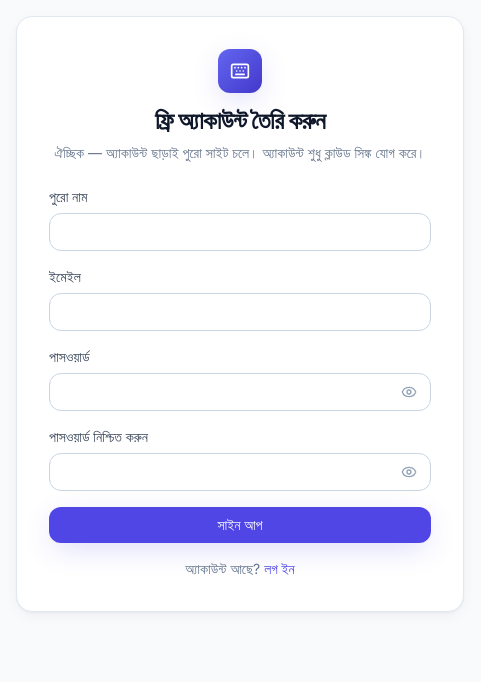
RegisterPage validation › rejects an invalid email and a short password
Step 1. Type "Maruf" into the field labelled "পুরো নাম" → (240, 232), box 49,213 -> 431,251
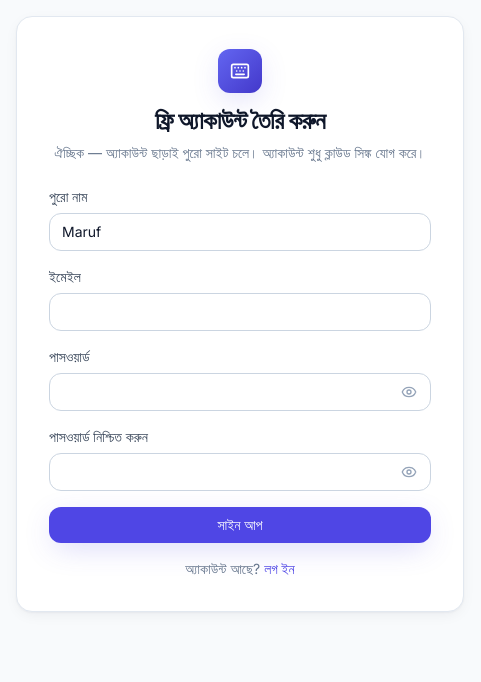
Step 2. Type "not-an-email" into the field labelled "ইমেইল" → (240, 312), box 49,293 -> 431,331
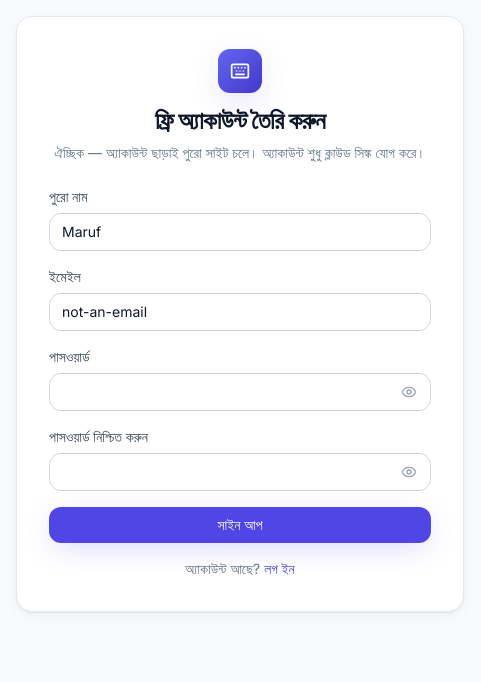
Step 3. Type "abc" into the password field labelled "পাসওয়ার্ড" → (240, 392), box 49,373 -> 431,411
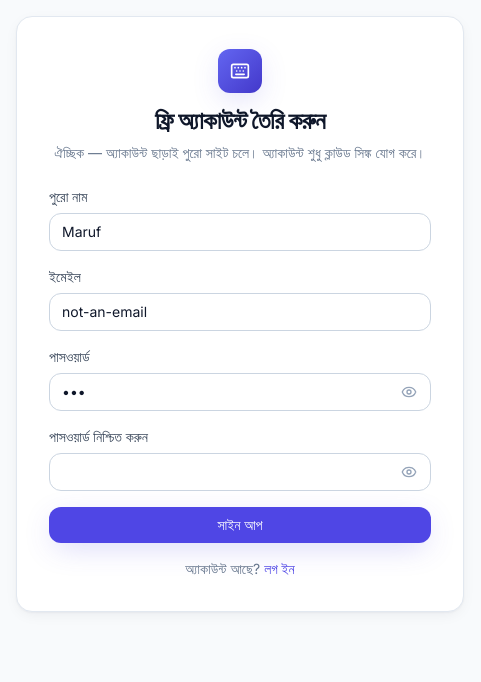
Step 4. Type "abc" into the password field labelled "পাসওয়ার্ড নিশ্চিত করুন" → (240, 472), box 49,453 -> 431,491
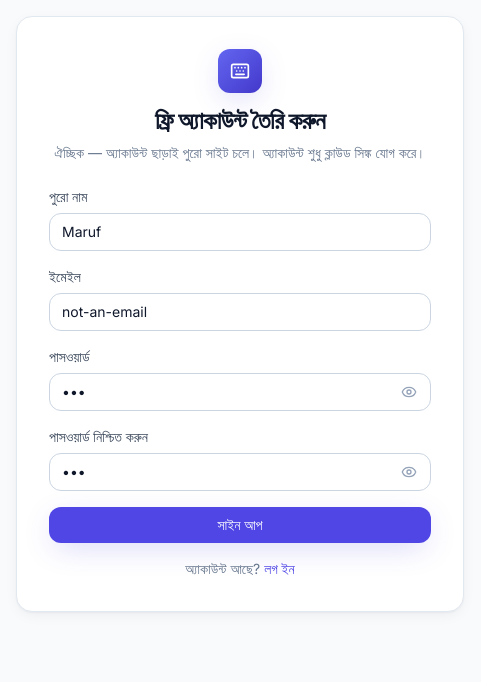
Step 5. Click the button "সাইন আপ" → (240, 525), box 49,507 -> 431,543
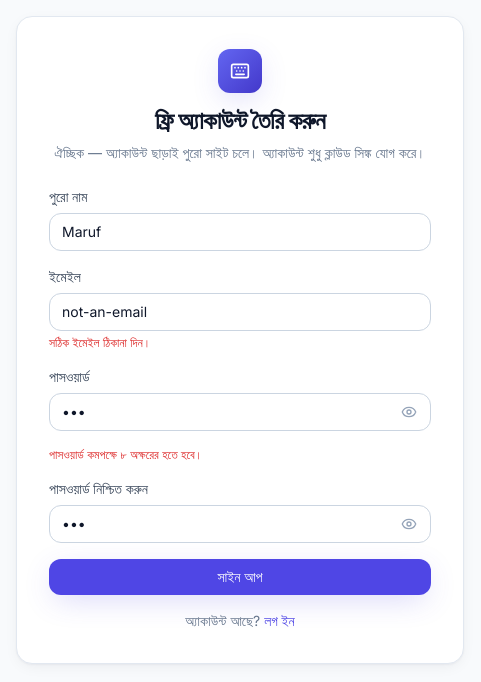
Now the text "সঠিক ইমেইল ঠিকানা দিন।" is shown, box 49,335 -> 151,350
Now the text "পাসওয়ার্ড কমপক্ষে ৮ অক্ষরের হতে হবে।" is shown, box 49,447 -> 203,462
